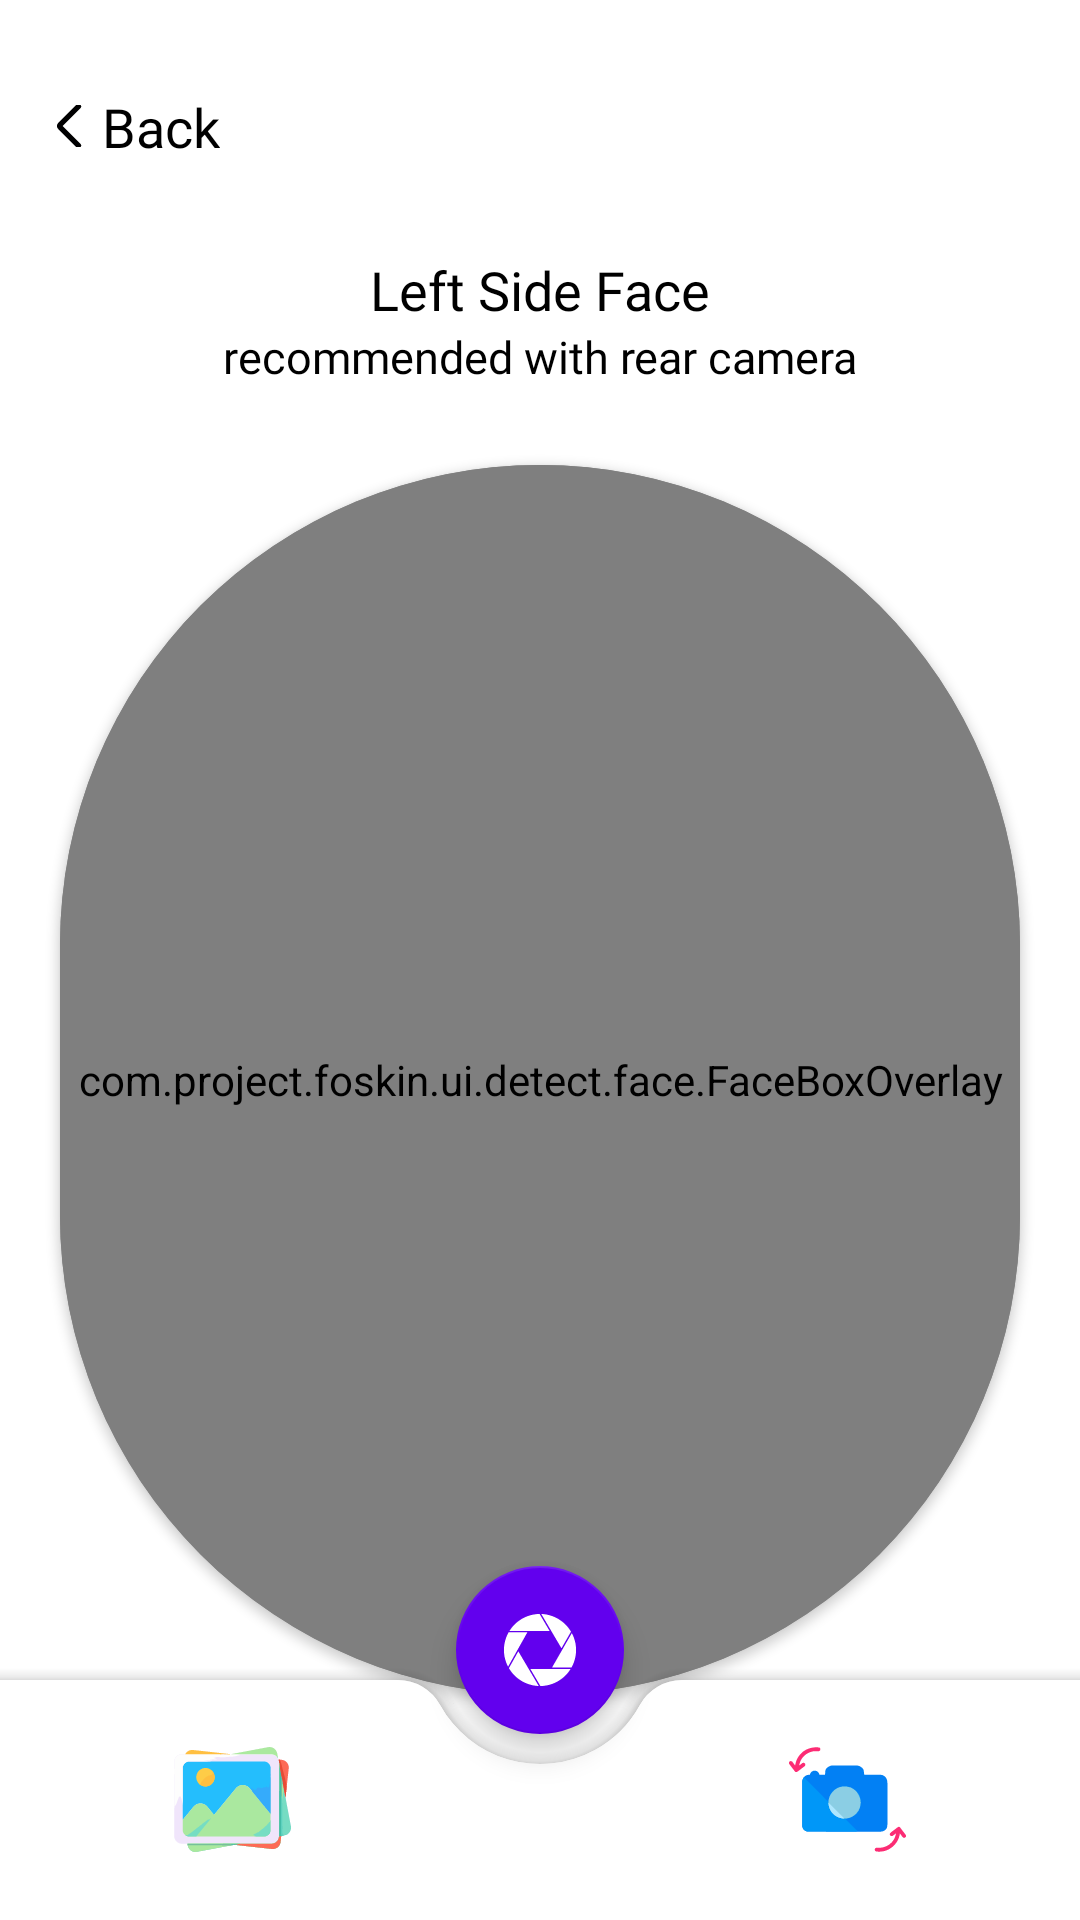

Named icons in this screenshot (1080px×1920px) and their centers, (x,y):
gallery: (233,1799)
rotate camera: (847,1799)
Take Photo: (540,1680)
